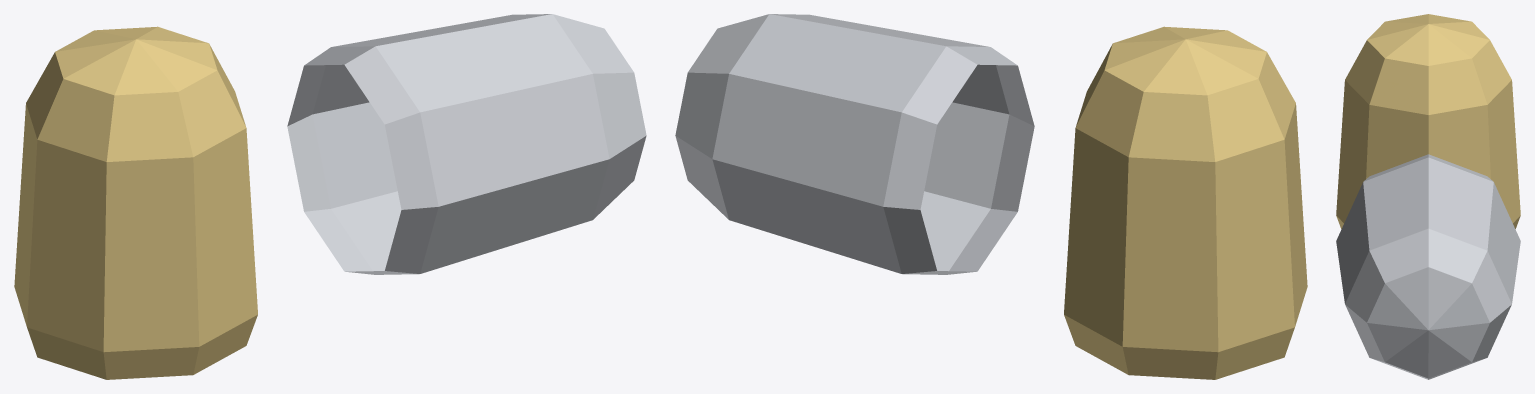
Rendered from prop-finished-thimble-pair.fbx.
3 views of the same model, side by side, from view 1: azimuth 30°, elevation 25°; view 2: azimuth 150°, elevation 25°; view 3: azimuth 270°, elevation 25° (orthographic). The views are drawn at different scales.
Parts seen in each view (by area): view 1: prop-finished-thimble-pair; view 2: prop-finished-thimble-pair; view 3: prop-finished-thimble-pair.
Part boxes in pixels (x1,y1,x2,y2): prop-finished-thimble-pair: (14,14,646,379); prop-finished-thimble-pair: (675,14,1307,379); prop-finished-thimble-pair: (1336,14,1520,379).
Bounding box in the file's own units: 5.75 × 2.7 × 2.1.
